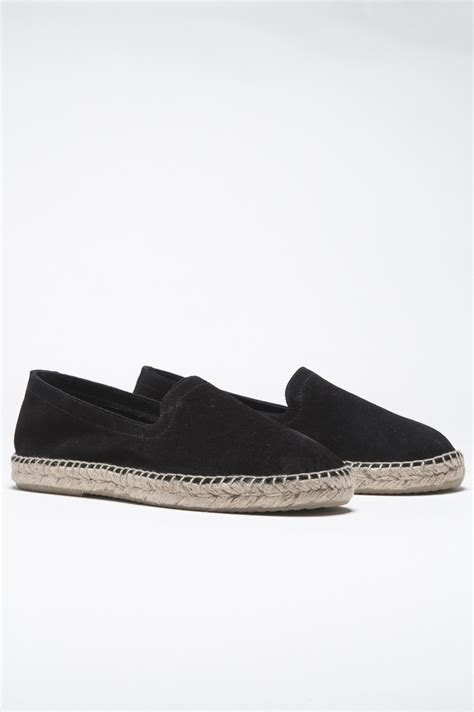gamuza: (14, 367, 457, 476)
